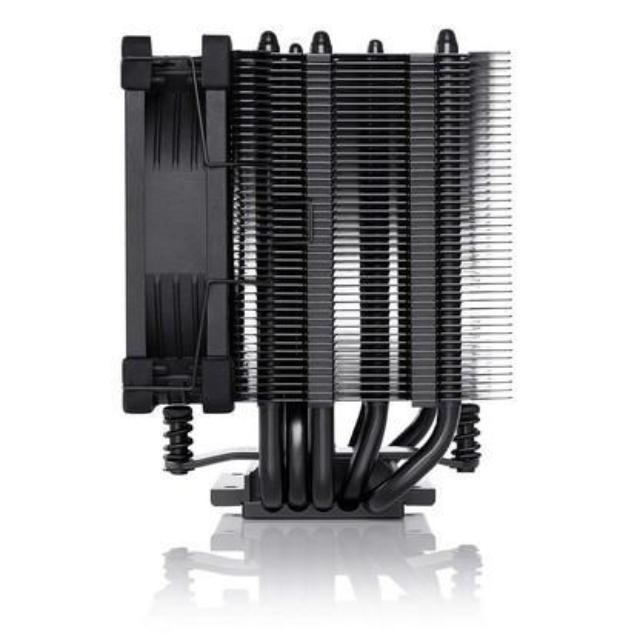CPU_Fan: (117, 32, 515, 520)
